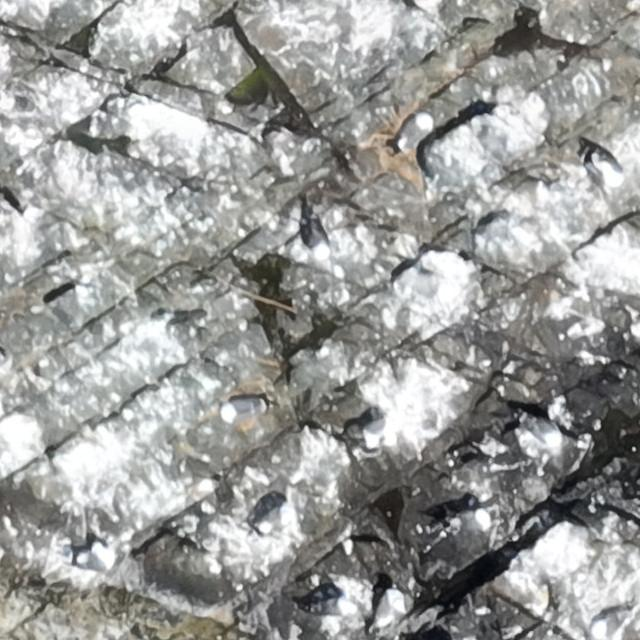umineko: (588, 144, 628, 188), (524, 410, 564, 451), (309, 589, 359, 620), (588, 606, 632, 638), (371, 589, 410, 625), (398, 114, 430, 148), (220, 399, 260, 420), (261, 509, 289, 535), (76, 546, 103, 568)
